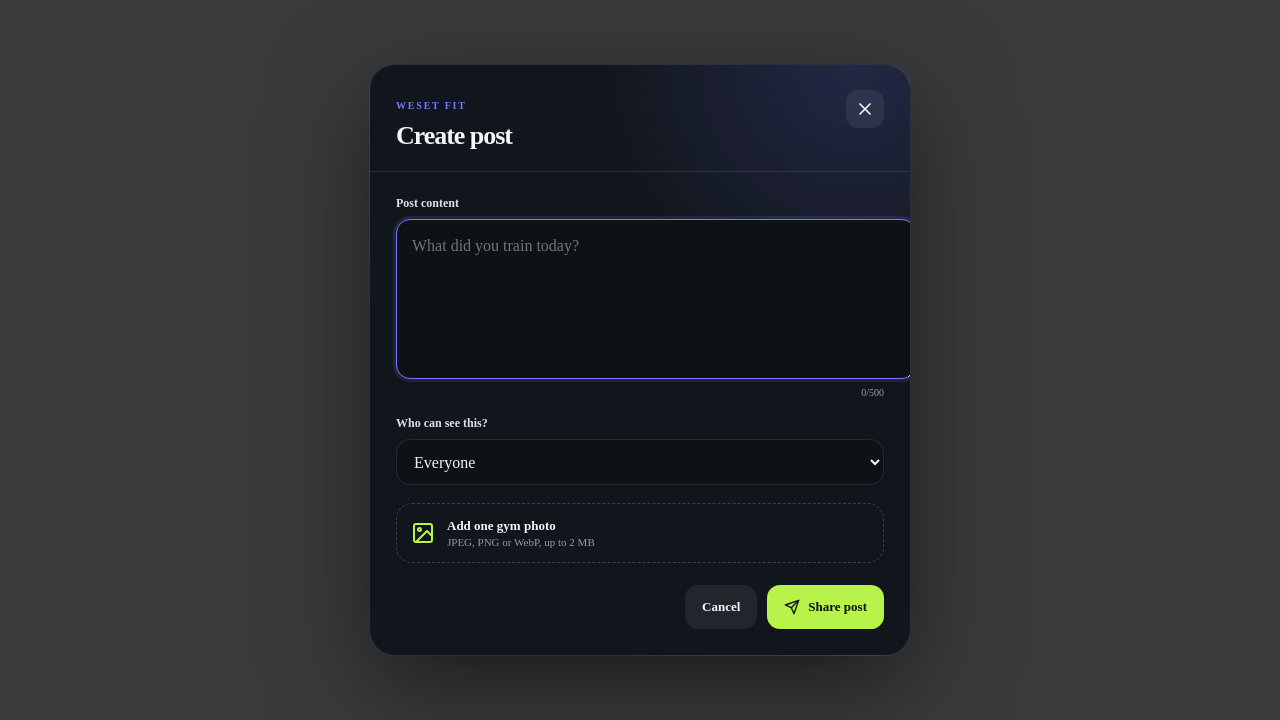
Test: CreatePostModal › keeps the modal open and reports API failures
Type "A post that fails." into the text box labelled "Post content".
click(656, 299); type("A post that fails.")  # box x1=396 y1=219 x2=916 y2=379
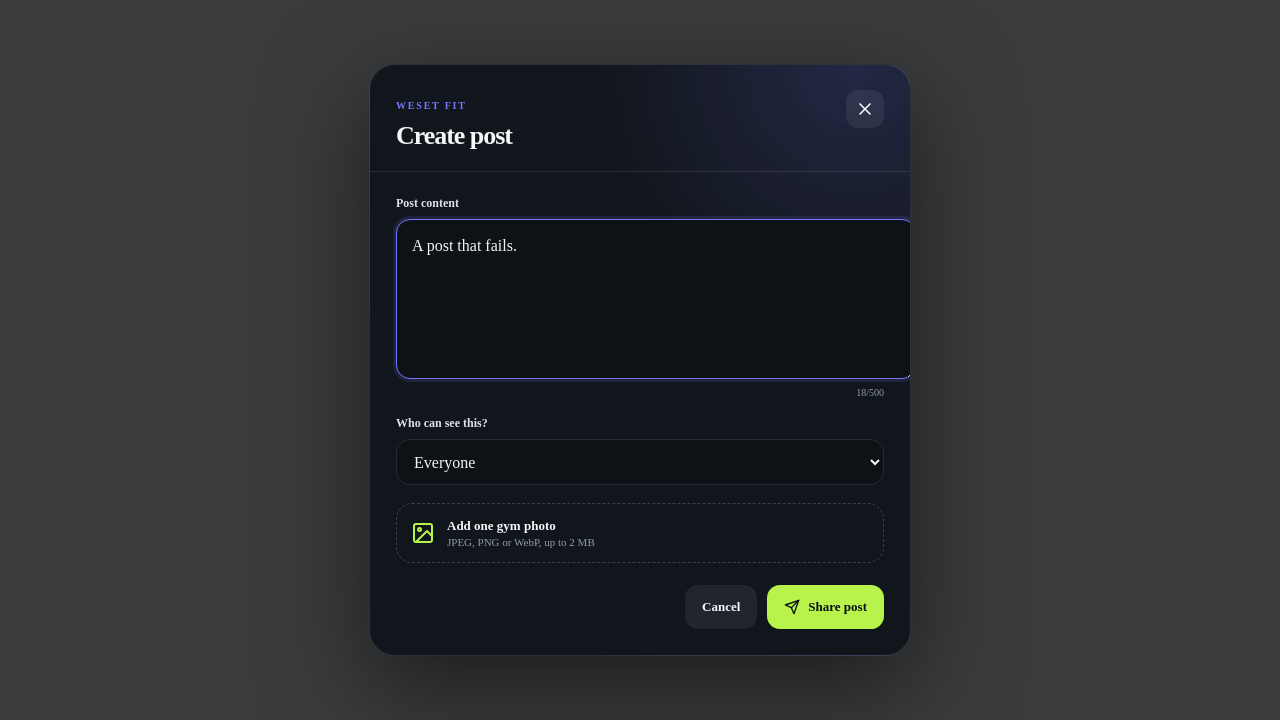
Click the button "Share post".
click(826, 607)  # box x1=767 y1=585 x2=884 y2=629
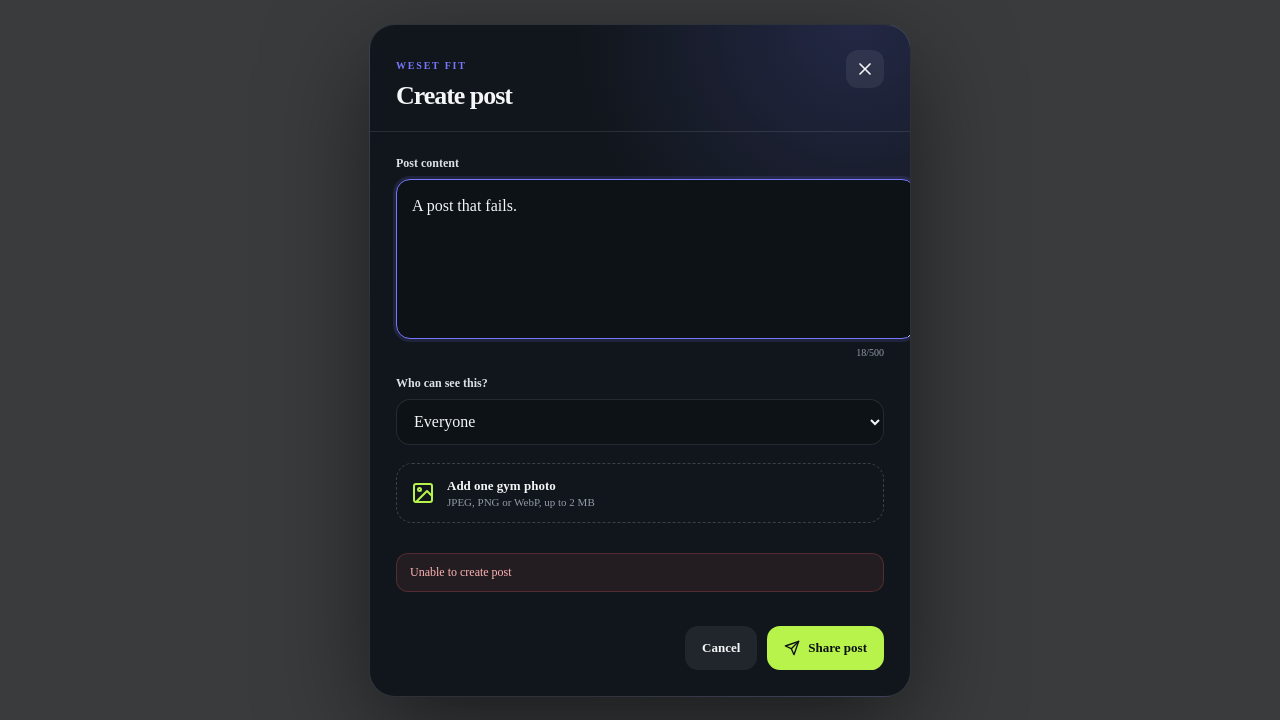
expect the dialog is shown: met, box x1=369 y1=24 x2=911 y2=696
expect the message reads "Unable to create post": met, box x1=410 y1=564 x2=512 y2=578
